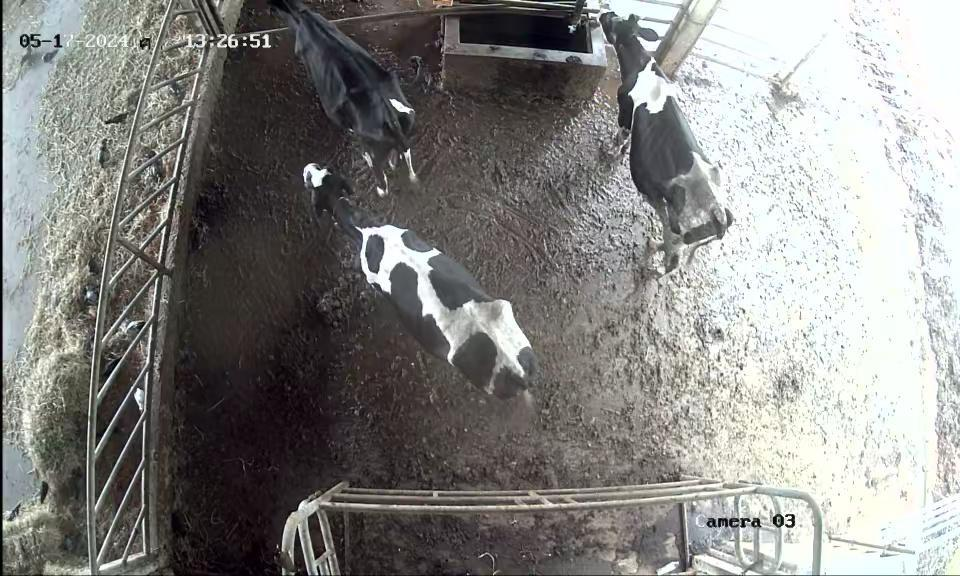stand: (290, 155, 546, 408), (593, 7, 743, 287), (268, 1, 428, 198)
